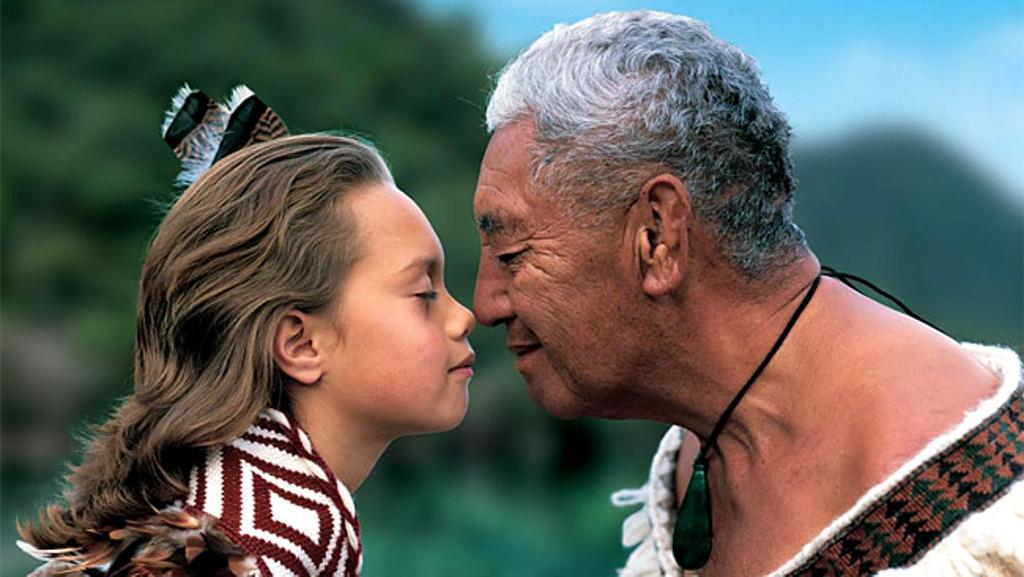face: (478, 122, 630, 412), (322, 182, 474, 426)
